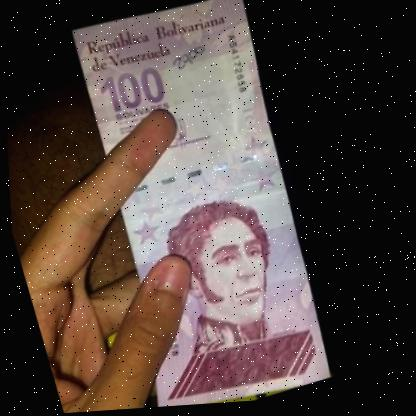one_hundred-front-vef: (59, 0, 341, 413)
